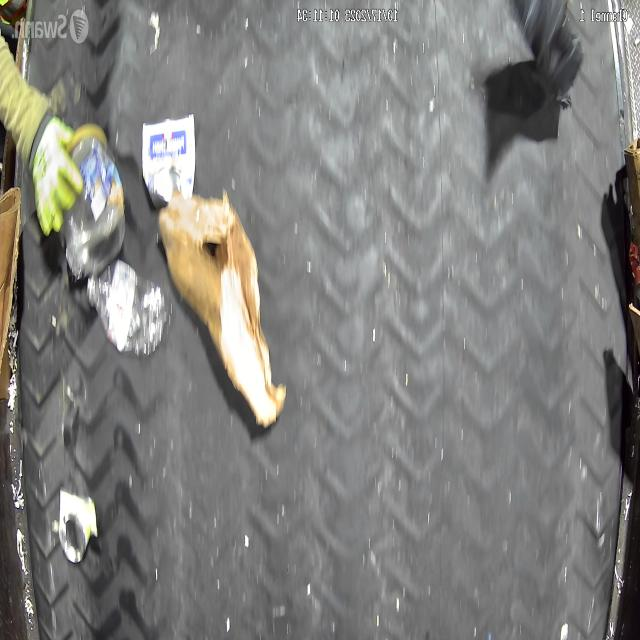can: (142, 113, 196, 208), (58, 490, 97, 565)
plastic_bottle: (85, 262, 163, 356)
